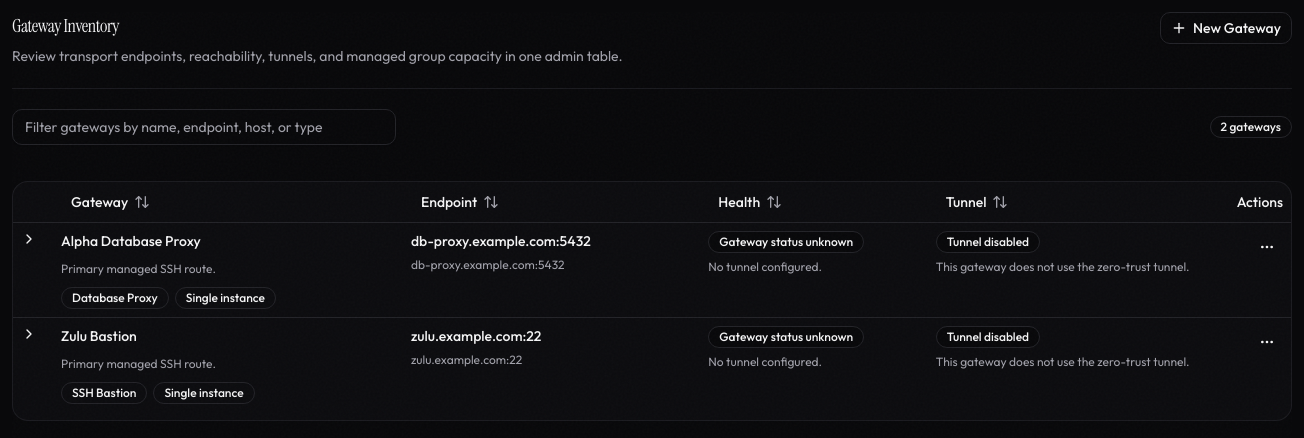
Test: GatewayInventoryTable › supports sorting and filtering in the gateway inventory table
The image size is (1304, 438).
Check: the row that starts with "Alpha Database Proxy" is shown, box [61,232,201,250]
Click the button "Gateway".
click(111, 202)  # box [61,192,160,212]
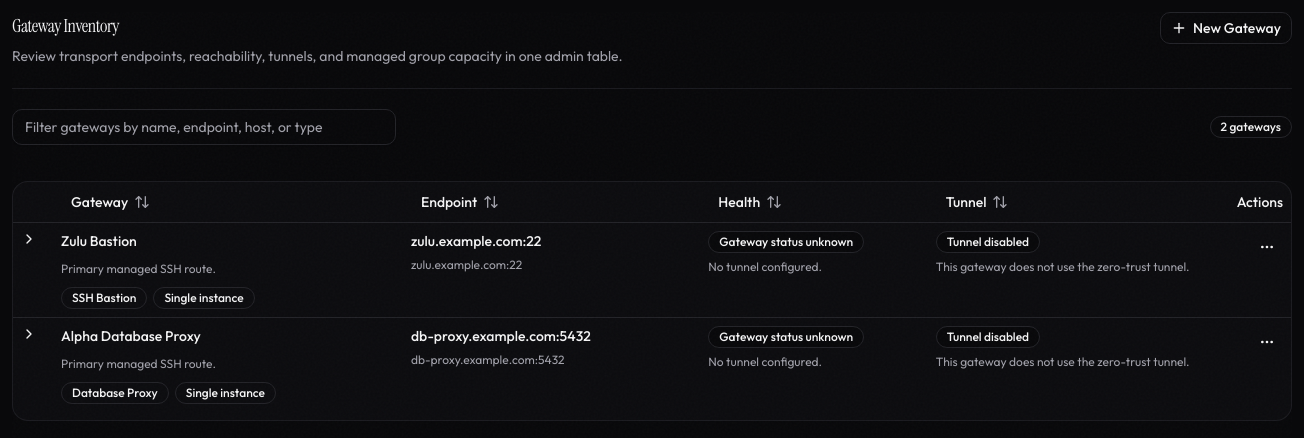
Check: the row that starts with "Zulu Bastion" is shown, box [61,232,137,250]
Type "db-proxy" into the field labelled "Filter gateways".
click(204, 127); type("db-proxy")  # box [12,109,396,145]
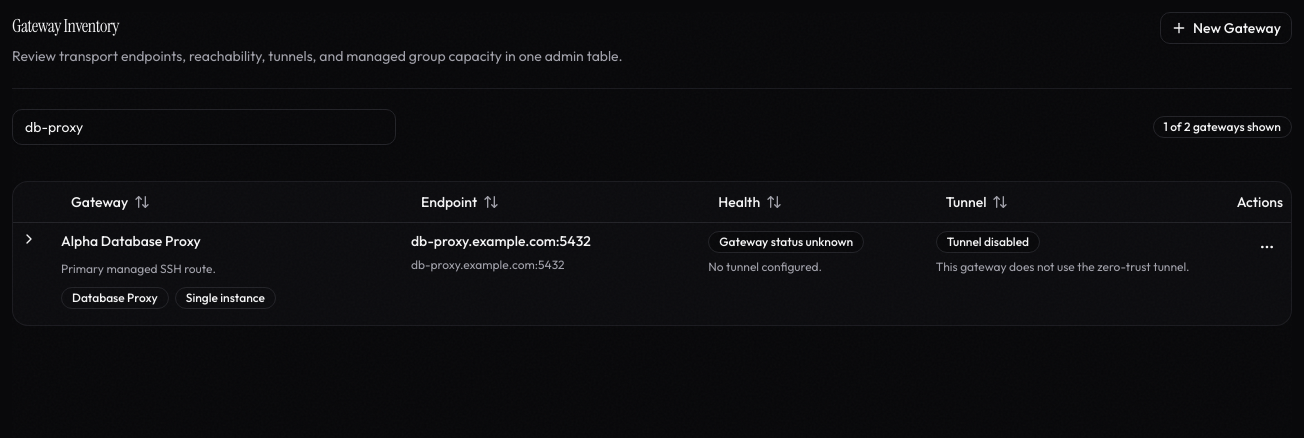
Check: the text "Alpha Database Proxy" is shown, box [61,232,201,250]
Check: the text "Zulu Bastion" is gone
Check: the text "1 of 2 gateways shown" is shown, box [1153,116,1292,138]
